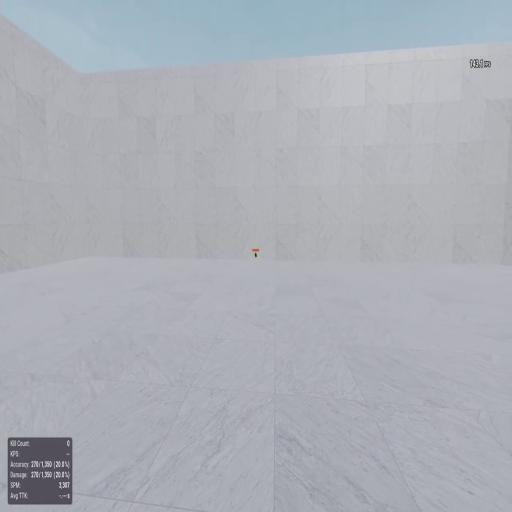Crosshair: (255, 254, 257, 258)
Target: (254, 252, 257, 257)
